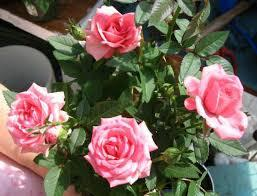Rose: (83, 109, 160, 191), (1, 74, 74, 160), (181, 54, 251, 142), (86, 4, 146, 62)
